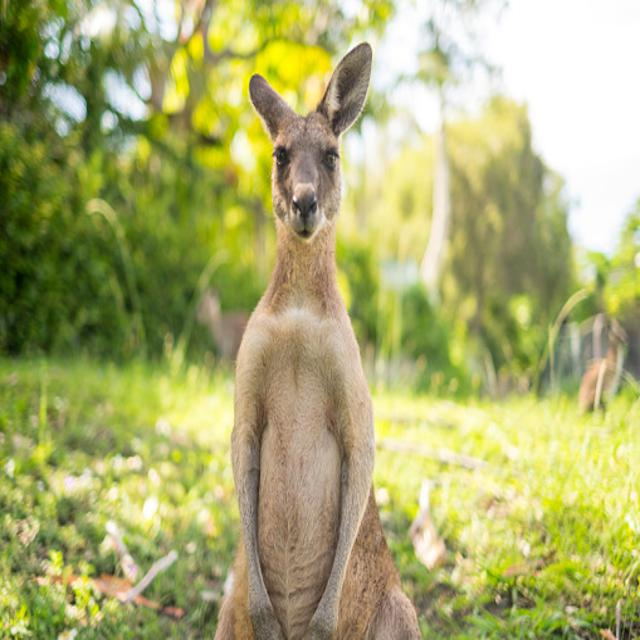kangaroo: (222, 48, 412, 640)
